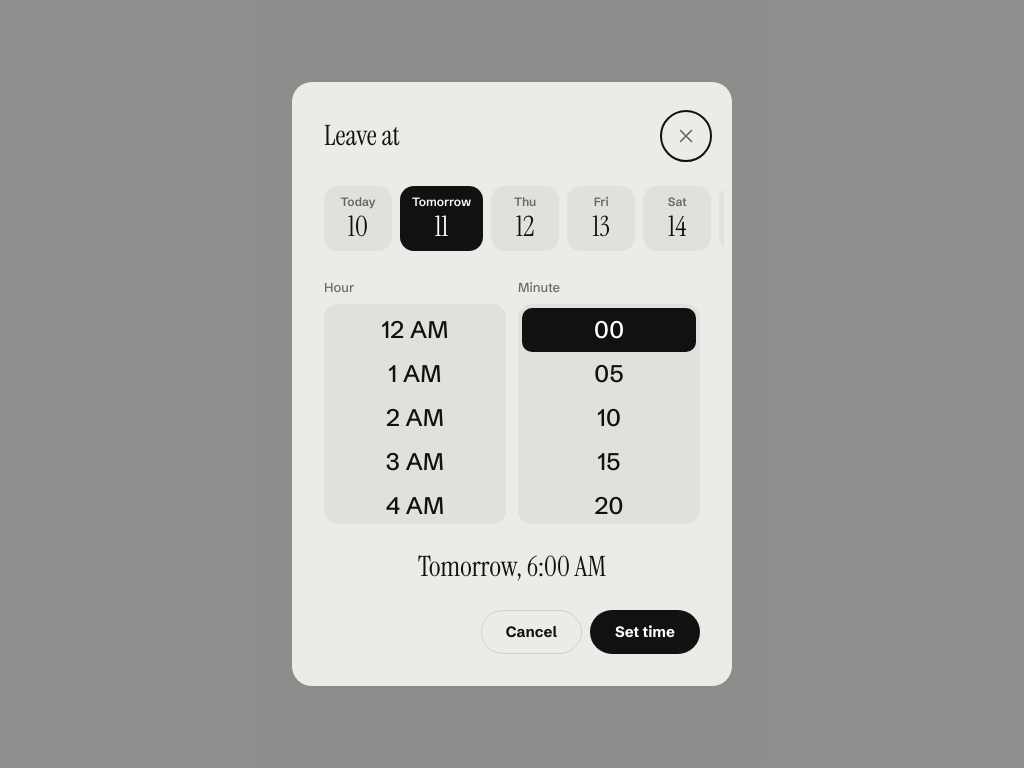
Test case: TimePickerSheet › falls back to the earliest time when going back to today lands in the past
Expected: the radio button labelled "Tomorrow 11" is checked, [400, 186, 483, 251]
Click the radio button labelled "Today 10" at (358, 218), box [324, 186, 392, 251]
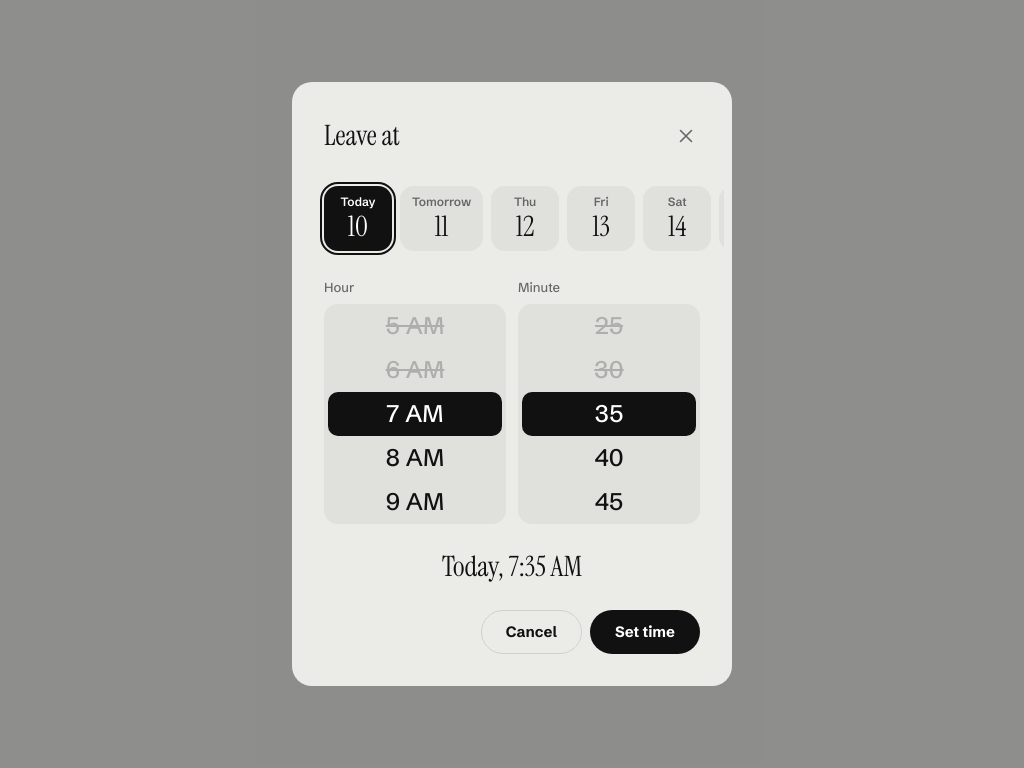
Now the text "Today, 7:35 AM" is shown, box [442, 548, 582, 585]
